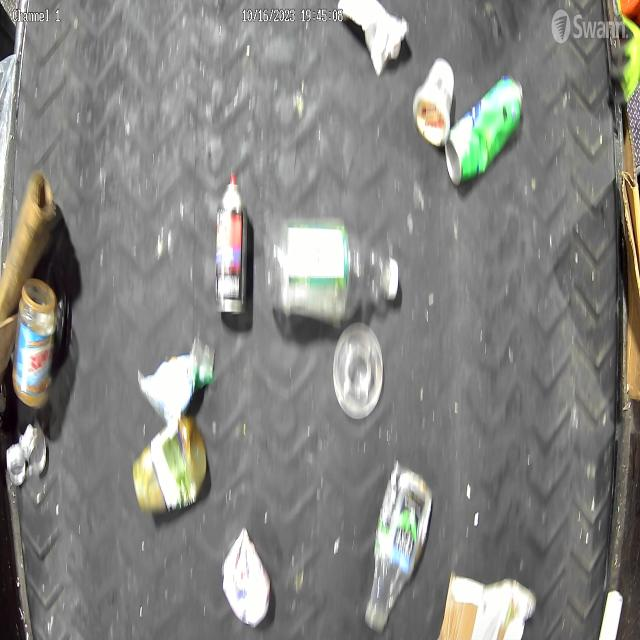can: (444, 72, 524, 188), (214, 173, 248, 317), (20, 422, 47, 474), (6, 444, 26, 486)
plastic_bottle: (263, 217, 399, 326), (363, 460, 434, 633)
